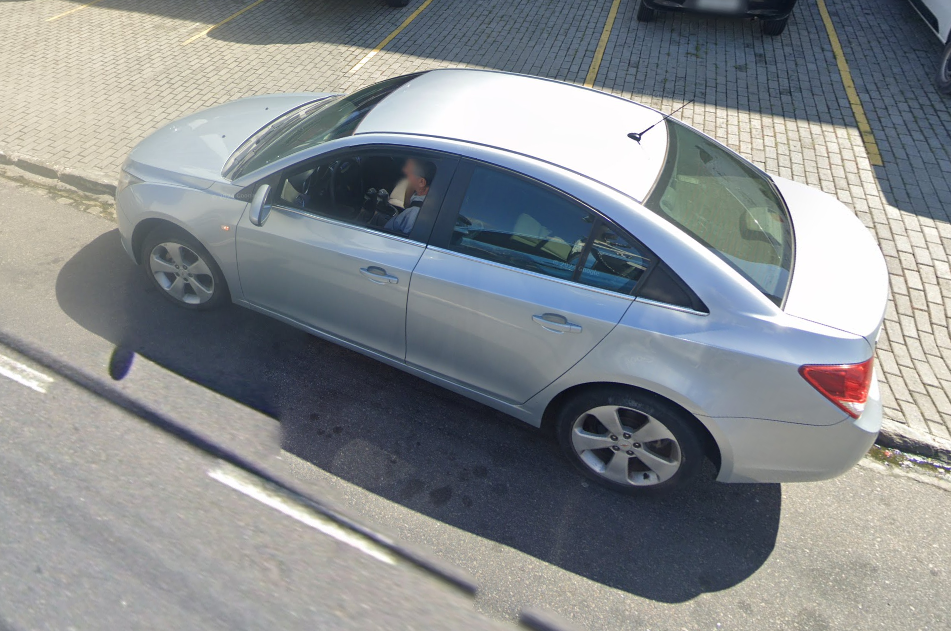car: (113, 62, 890, 501)
